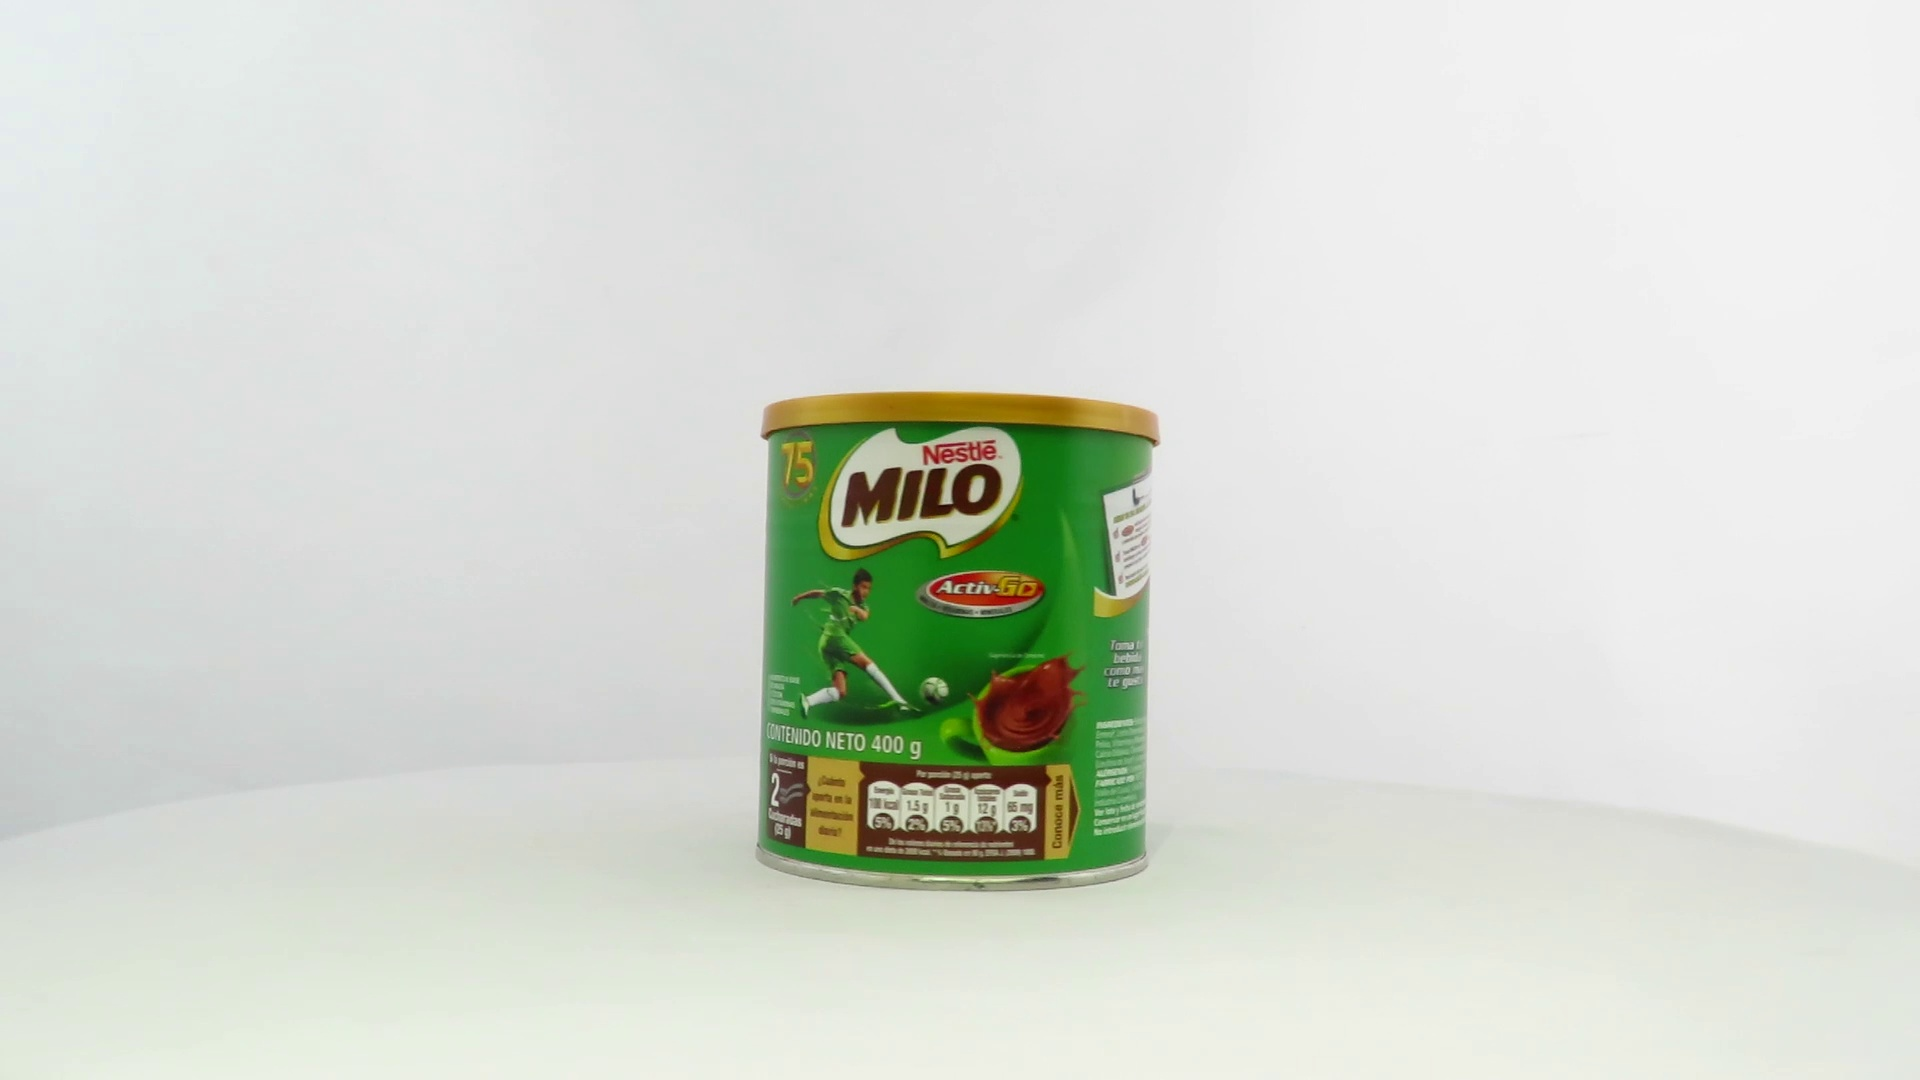COL0170203LAT40000: (750, 386, 1167, 898)
